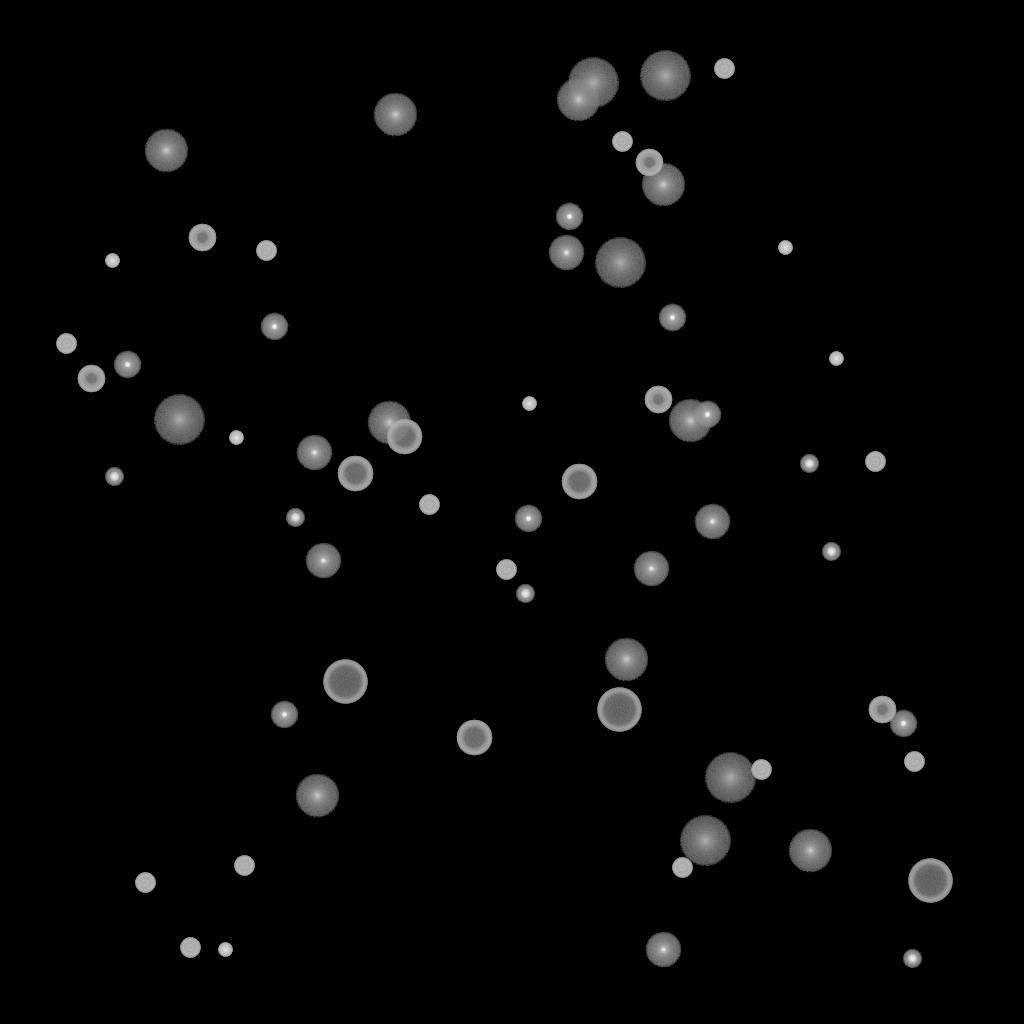depth:-10: (270, 701, 298, 729), (693, 401, 721, 429), (260, 313, 288, 341), (113, 351, 141, 379), (555, 203, 583, 231), (658, 304, 686, 332), (514, 505, 542, 533), (889, 710, 917, 738)
depth:-20: (903, 950, 921, 968), (286, 509, 304, 527), (105, 468, 123, 486), (800, 455, 818, 473), (822, 543, 840, 561), (516, 585, 534, 603)
depth:-30: (778, 241, 792, 255), (522, 397, 536, 411), (229, 431, 243, 445), (218, 943, 232, 957), (105, 254, 119, 268), (829, 352, 843, 366)
depth:-40: (419, 495, 439, 515), (672, 858, 692, 878), (135, 873, 155, 893), (612, 132, 632, 152), (180, 938, 200, 958), (865, 452, 885, 472), (496, 560, 516, 580), (714, 59, 734, 79), (904, 752, 924, 772), (256, 241, 276, 261), (56, 334, 76, 354), (751, 760, 771, 780), (234, 856, 254, 876)
depth:-50: (77, 365, 105, 393), (868, 696, 896, 724), (644, 386, 672, 414), (188, 224, 216, 252), (635, 149, 663, 177)
depth:-60: (337, 456, 373, 492), (561, 464, 597, 500), (456, 720, 492, 756), (386, 419, 422, 455)
depth:-70: (597, 688, 641, 732), (908, 859, 952, 903), (323, 660, 367, 704)
depth:0: (694, 504, 730, 540), (548, 235, 584, 271), (633, 551, 669, 587), (296, 435, 332, 471), (305, 543, 341, 579), (645, 932, 681, 968)
depth:10: (373, 93, 417, 137), (604, 638, 648, 682), (641, 163, 685, 207), (295, 774, 339, 818), (788, 829, 832, 873), (668, 399, 712, 443), (144, 129, 188, 173), (367, 401, 411, 445), (556, 78, 600, 122)
depth:20: (679, 816, 731, 866), (639, 51, 691, 101), (594, 238, 646, 288), (704, 753, 756, 803), (153, 395, 205, 445), (567, 58, 619, 108)
